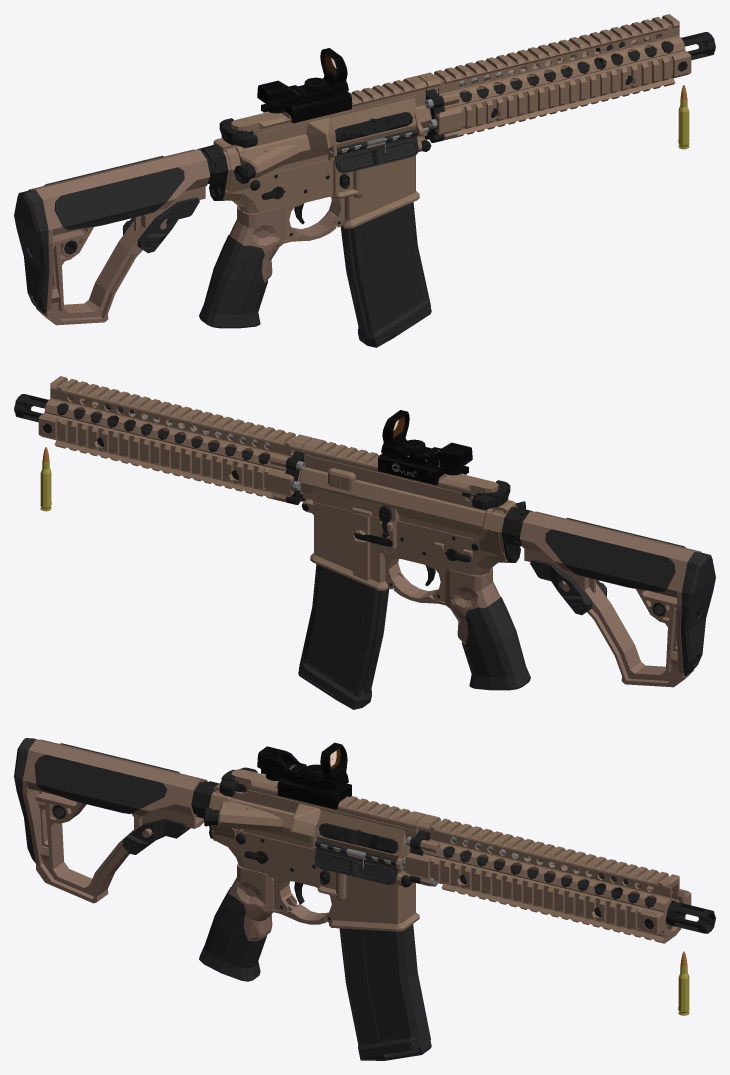
Rendered from m416rifle.glb.
3 views of the same model, one above another, from view 1: azimuth 30°, elevation 25°; view 2: azimuth 150°, elevation 25°; view 3: azimuth 330°, elevation 25° (orthographic).
Visible parts, largest first — view 1: Bolt.001, Magazine, scope_low, Bolt, Cock.001, Bulletshell; view 2: Bolt.001, Magazine, scope_low, Cock.001, Bulletshell; view 3: Bolt.001, Magazine, scope_low, Bolt, Bulletshell.
Boxes of the visible parts, x1,y1,x2,y2 form: Bolt.001: [14, 14, 715, 328]; Magazine: [340, 202, 431, 347]; scope_low: [257, 48, 351, 123]; Bolt: [335, 112, 412, 142]; Cock.001: [219, 118, 257, 147]; Bulletshell: [678, 98, 689, 149]; Bolt.001: [14, 376, 715, 690]; Magazine: [298, 564, 389, 709]; scope_low: [378, 410, 472, 485]; Cock.001: [462, 480, 510, 509]; Bulletshell: [40, 460, 51, 511]; Bolt.001: [14, 738, 715, 981]; Magazine: [339, 924, 431, 1060]; scope_low: [257, 742, 351, 809]; Bolt: [319, 823, 398, 853]; Bulletshell: [678, 965, 689, 1015].
Bounding box in the file's own units: 6.65 × 2.76 × 0.6601.
Materials: 11 (1 with a texture image).
